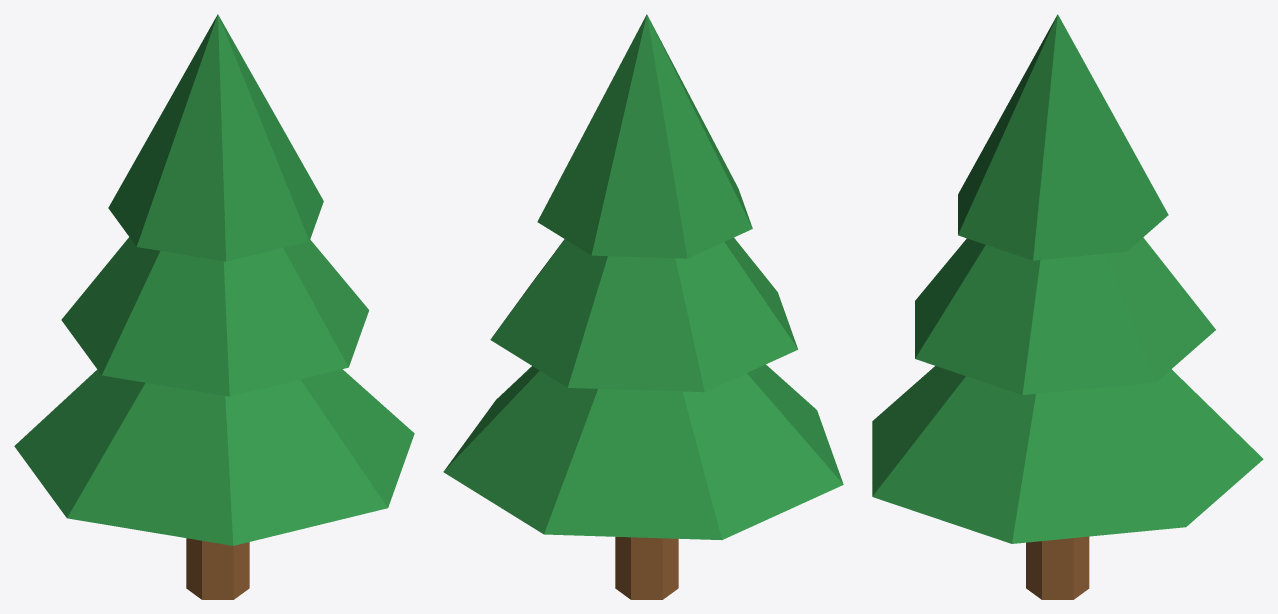
The model's file is ENV_Pine.glb.
3 renders of one model, left to right at view 1: azimuth 30°, elevation 25°; view 2: azimuth 150°, elevation 25°; view 3: azimuth 270°, elevation 25°, orthographic.
Parts seen in each view (by area): view 1: Tier_0, Tier_1, Tier_2, Trunk; view 2: Tier_0, Tier_1, Tier_2, Trunk; view 3: Tier_0, Tier_1, Tier_2, Trunk.
Boxes of the visible parts, <box> form: Tier_0: <box>14,369,414,545</box>; Tier_1: <box>61,237,369,396</box>; Tier_2: <box>108,14,323,261</box>; Trunk: <box>186,538,249,599</box>; Tier_0: <box>443,364,843,540</box>; Tier_1: <box>490,237,797,392</box>; Tier_2: <box>537,14,752,258</box>; Trunk: <box>615,536,678,599</box>; Tier_0: <box>872,366,1263,543</box>; Tier_1: <box>915,237,1215,395</box>; Tier_2: <box>958,14,1168,260</box>; Trunk: <box>1026,536,1089,599</box>.
Bounding box in the file's own units: 2.53 × 4 × 2.47.
